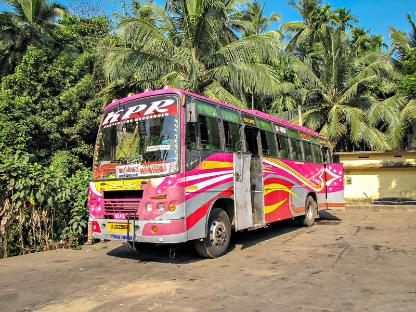bus: (82, 92, 348, 258)
